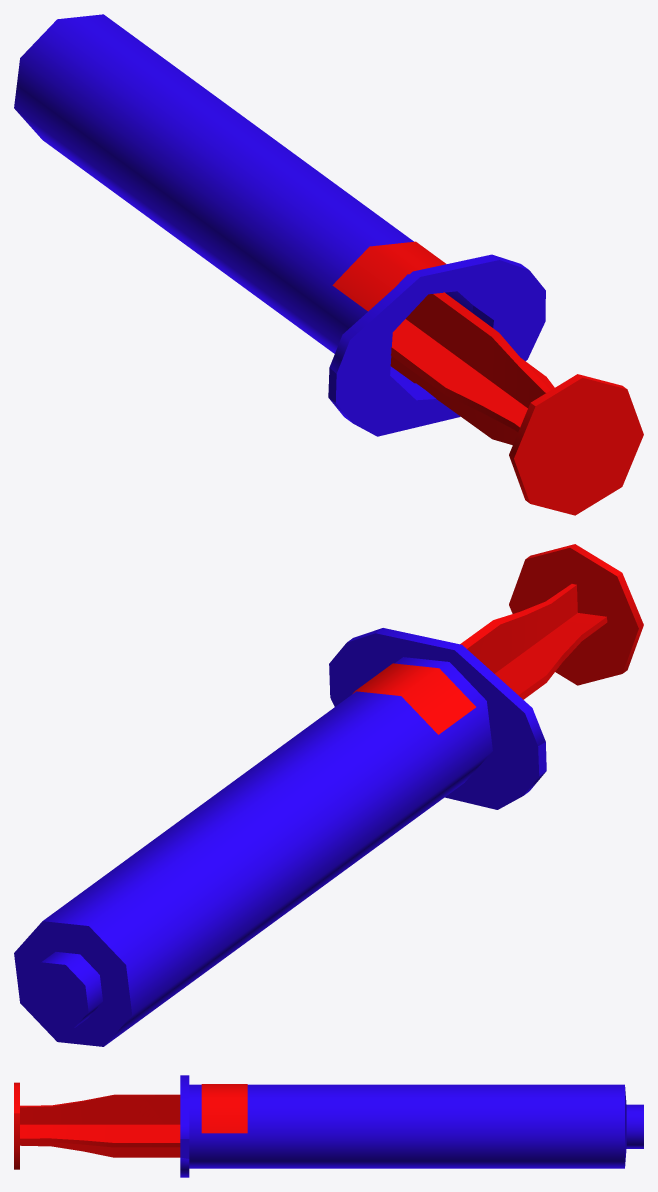
The model's file is seringue_jaune.FBX.
3 renders of one model, top to bottom at view 1: azimuth 30°, elevation 25°; view 2: azimuth 150°, elevation 25°; view 3: azimuth 270°, elevation 25°, orthographic. The views are drawn at different scales.
Parts seen in each view (by area): view 1: Obj_Seringue_Corps, Obj_Seringue_Piston; view 2: Obj_Seringue_Corps, Obj_Seringue_Piston; view 3: Obj_Seringue_Corps, Obj_Seringue_Piston.
Boxes of the visible parts, x1=… form: Obj_Seringue_Corps: x1=14, y1=14, x2=545, y2=436; Obj_Seringue_Piston: x1=390, y1=292, x2=643, y2=515; Obj_Seringue_Corps: x1=14, y1=628, x2=546, y2=1046; Obj_Seringue_Piston: x1=460, y1=544, x2=643, y2=699; Obj_Seringue_Corps: x1=180, y1=1075, x2=643, y2=1177; Obj_Seringue_Piston: x1=14, y1=1082, x2=180, y2=1169.
Bounding box in the file's own units: 1.09 × 0.7405 × 4.67.
